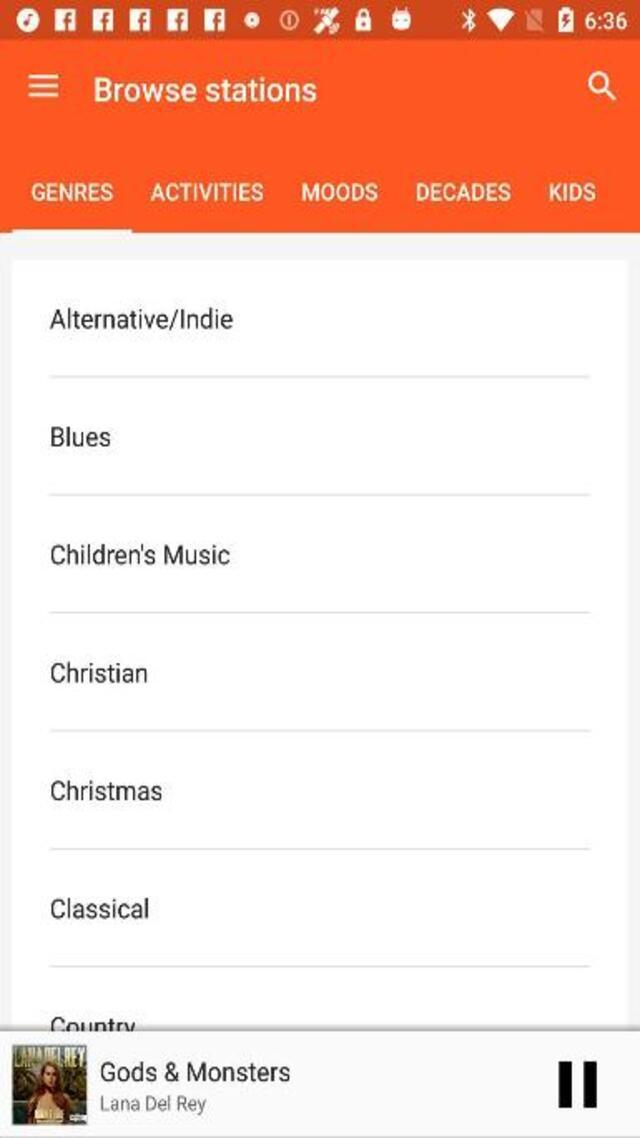Icon: (588, 70, 616, 100), (27, 74, 59, 97)
Image: (12, 1044, 88, 1124), (560, 1060, 598, 1108)
Text: (95, 76, 318, 102), (100, 1059, 290, 1082), (50, 307, 233, 330), (49, 544, 230, 566), (51, 779, 162, 800), (150, 182, 262, 202), (100, 1094, 206, 1114), (50, 898, 148, 919), (50, 662, 146, 682), (416, 182, 512, 202), (31, 182, 112, 202), (301, 183, 377, 201), (52, 425, 112, 446), (50, 1016, 136, 1030), (548, 182, 596, 202)
